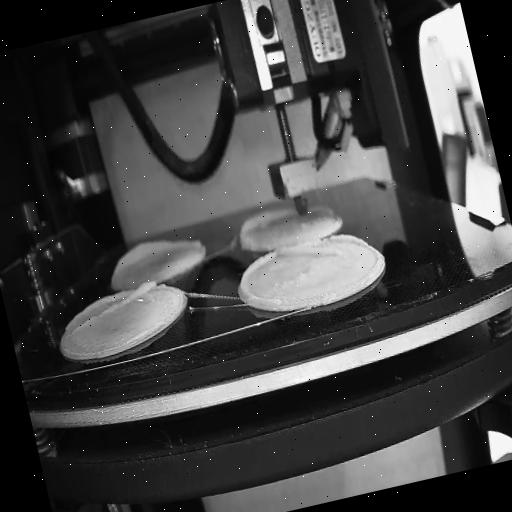over_extrusion: (64, 278, 164, 337), (108, 222, 204, 274), (234, 248, 292, 312), (234, 206, 300, 250), (327, 227, 369, 255)
